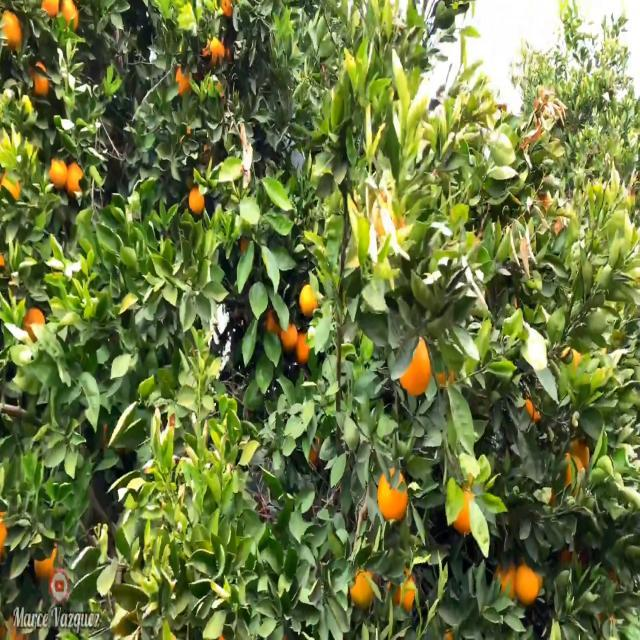Jeruk Sudah Matang: (374, 467, 410, 537), (398, 331, 432, 396), (450, 482, 480, 534), (32, 540, 68, 581), (386, 568, 418, 614), (347, 566, 375, 614), (21, 305, 49, 344), (490, 560, 517, 600), (28, 55, 49, 104), (514, 564, 538, 602), (1, 11, 22, 52), (298, 282, 320, 320), (46, 155, 67, 191), (66, 160, 88, 194), (174, 63, 194, 99), (570, 436, 594, 466), (296, 334, 314, 367), (265, 306, 281, 343), (281, 317, 297, 348), (188, 188, 204, 214), (60, 0, 73, 30)
